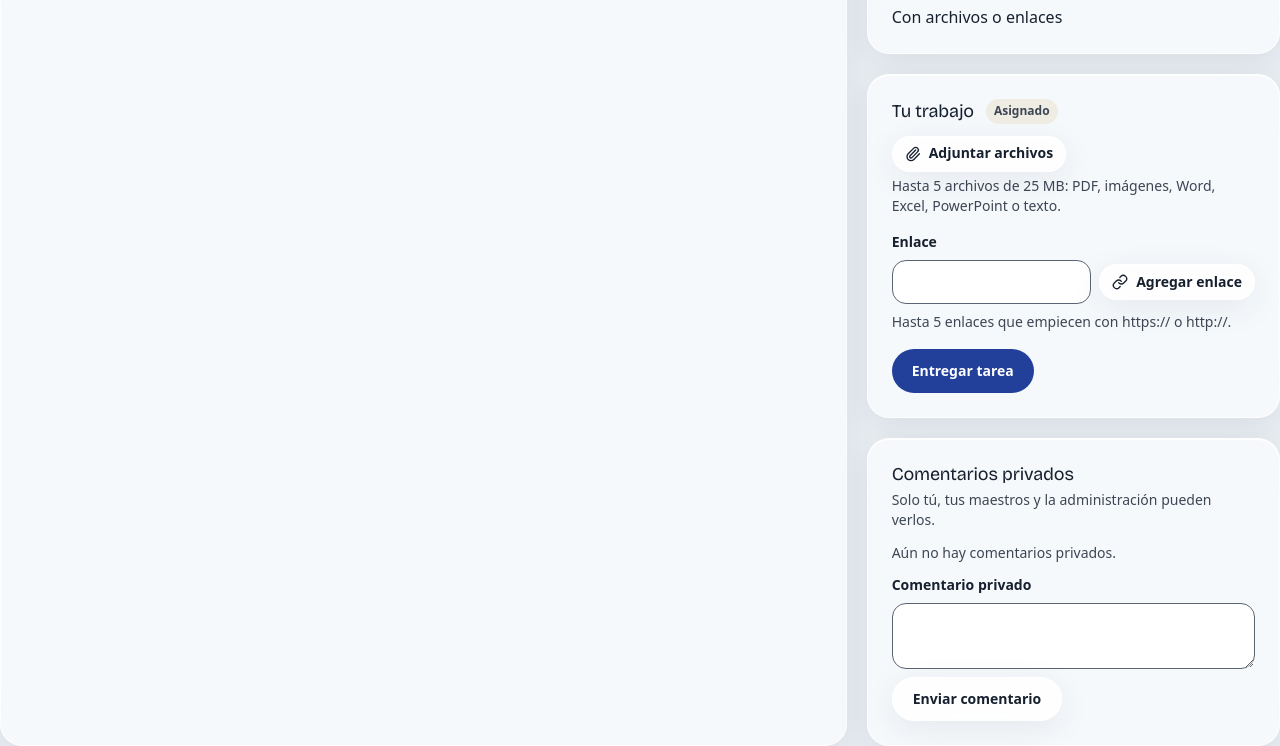
Test: CHORE-03 · la frase genérica en un ErrorDeCampo: repetir el control › CH3-A18: comentario privado del alumno tras F2: el mismo botón manda una petición nueva y, si responde bien, el ErrorDeCampo desaparece
The width and height of the screenshot is (1280, 746).
(page scrolled)
Type "Tengo una duda" into the text box labelled "Comentario privado". click: (1073, 636)
box: [892,603,1255,669]
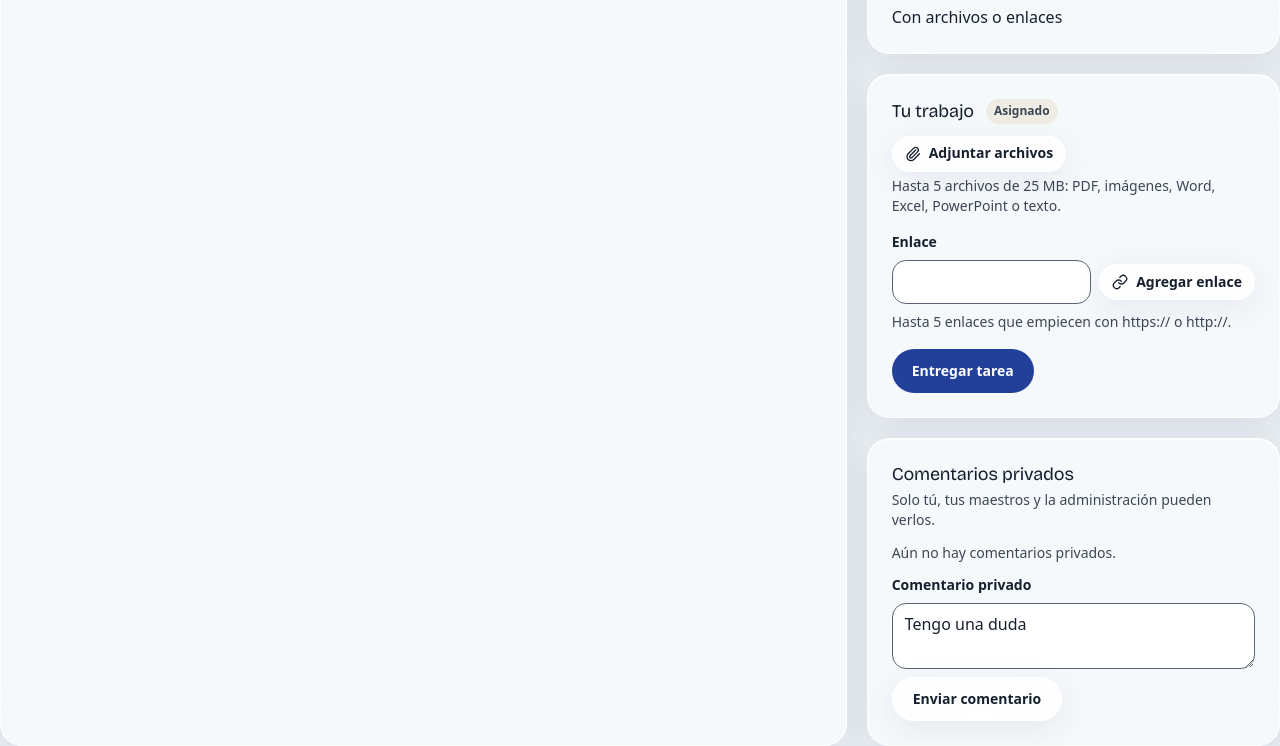
Click the button "Enviar comentario". click: (977, 699)
box: [892,677,1062,721]
(page scrolled)
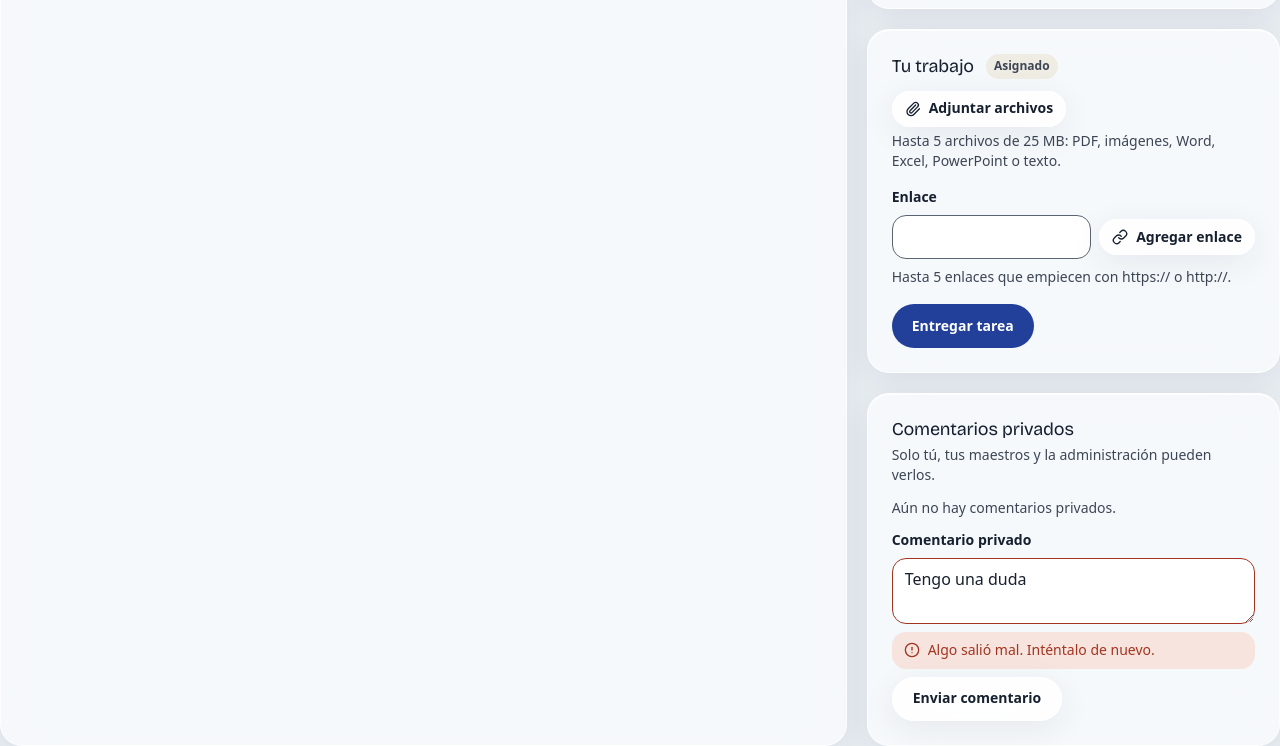
Click the button "Enviar comentario". click: (977, 699)
box: [892,677,1062,721]
(page scrolled)
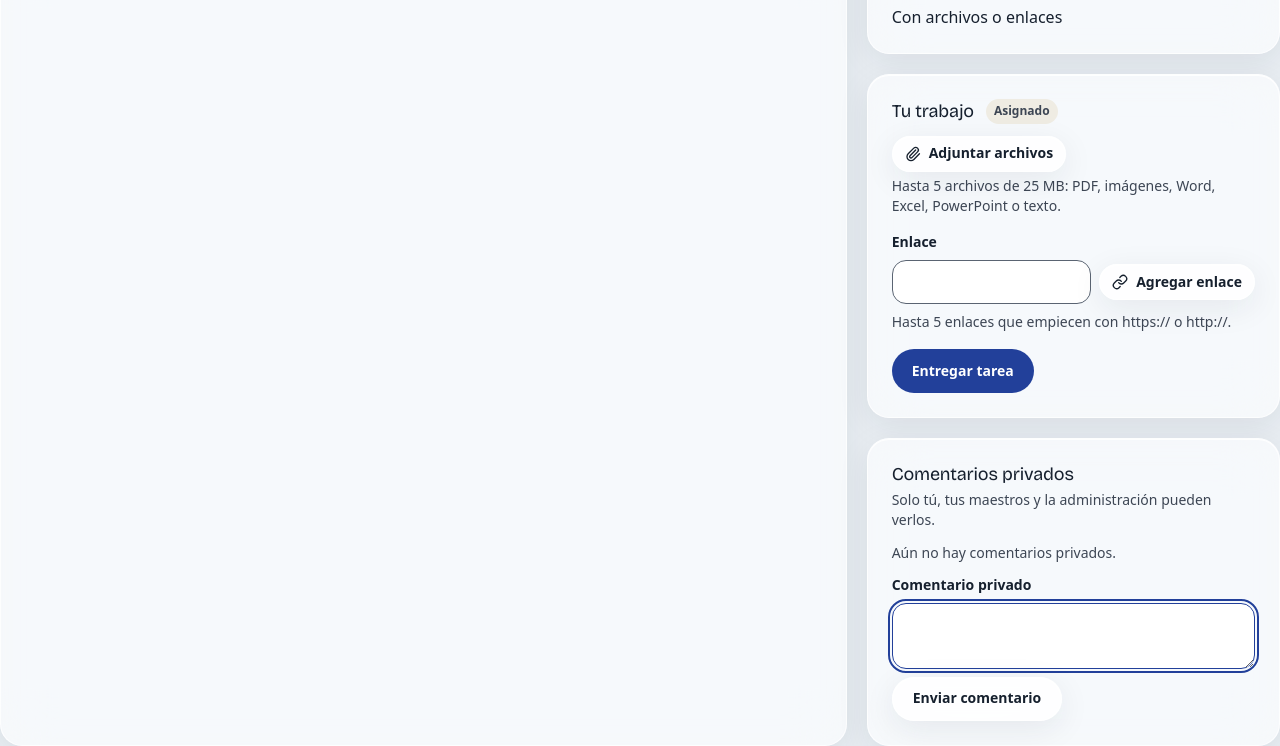
Expected: the text box labelled "Comentario privado" is empty, [892,603,1255,669]
Expected: the text "Algo salió mal. Inténtalo de nuevo." is gone
